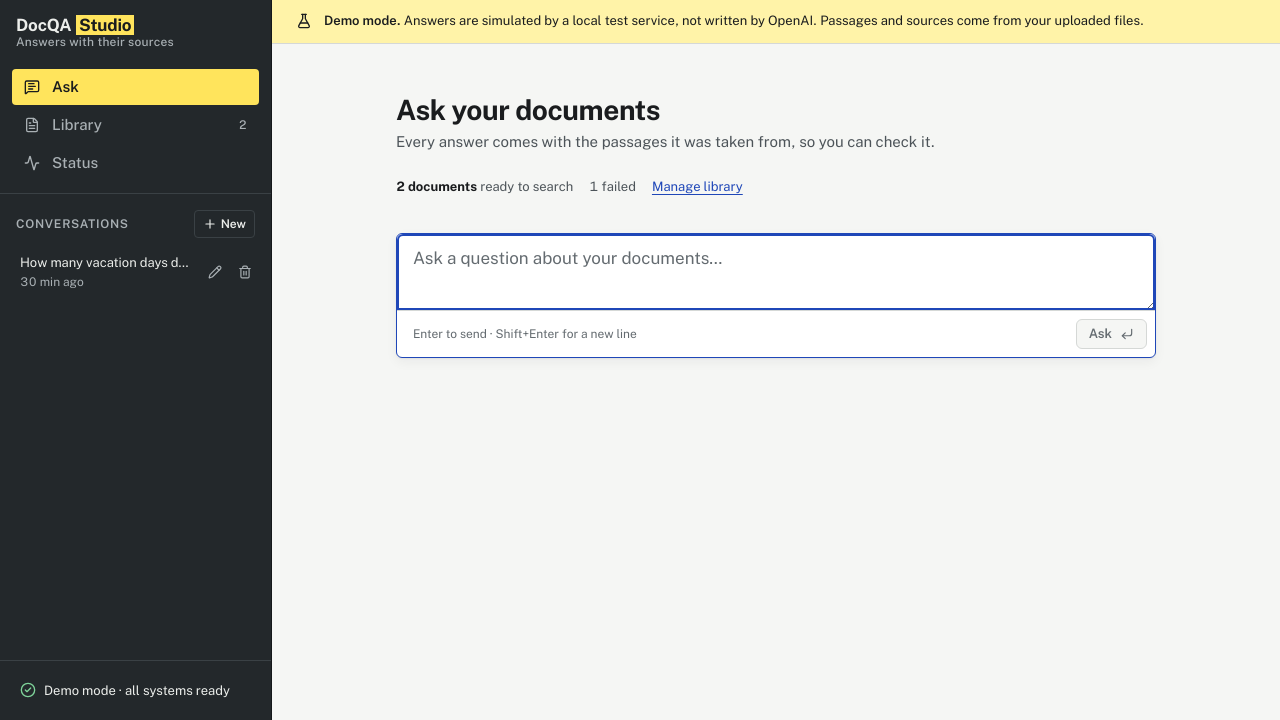
Test case: Workspace and composer › shows readiness and asks a question, then shows the cited answer
Expected: the text "2 documents ready to search" is shown, [396,177,573,197]
Type "How many vacation days?" into the text box named "Your question" at (776, 272), box [397,234,1155,310]
Then press Enter
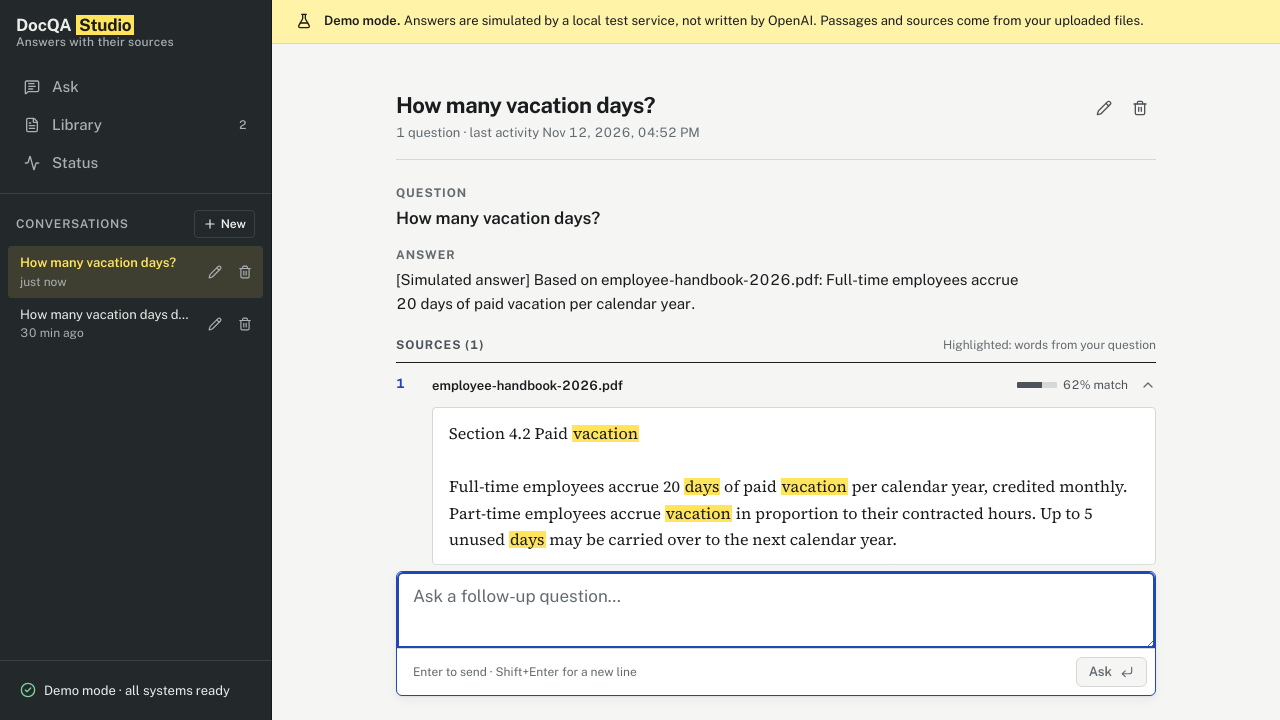
Result: the text "Simulated answer" is shown at [396,272,1022,312]
Result: the text "employee-handbook-2026.pdf" is shown at [432,378,623,393]
Result: the text "62% match" is shown at [1017,376,1128,394]
